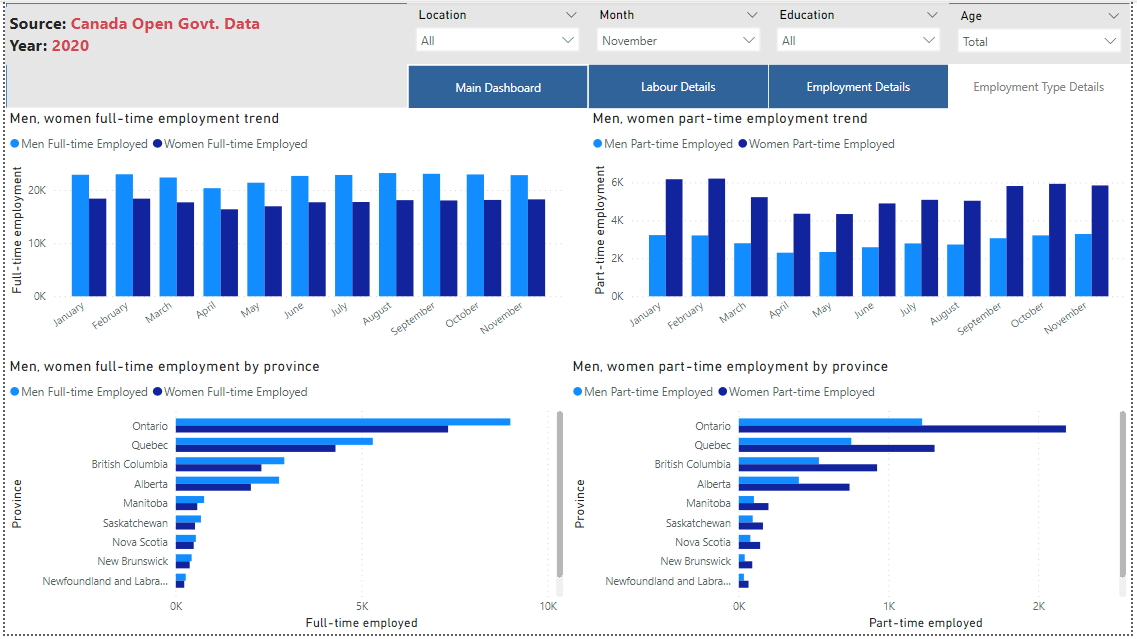

Layout of this report page (visuals, bound fields, positions):
{"tool":"powerbi","page":{"name":"Employment Type Details","canvas":[1280,720],"ordinal":3},"visuals":[{"type":"shape","box":[0,1.3,1280,120.8],"z":0},{"type":"lineClusteredColumnComboChart","title":"Men, women full-time employment trend","fields":{"Category":["data-2020.Date.Variation.Date Hierarchy.Month"],"Y":["LabourForceByEducation.Men Full-time Employed","LabourForceByEducation.Women Full-time Employed"]},"box":[0,123.4,640,281.4],"z":1000},{"type":"clusteredBarChart","title":"Men, women full-time employment by province","fields":{"Category":["data-2020.Location"],"Y":["LabourForceByEducation.Men Full-time Employed","LabourForceByEducation.Women Full-time Employed"]},"box":[0,404.8,640,314.9],"z":2000},{"type":"clusteredBarChart","title":"Men, women part-time employment by province","fields":{"Category":["data-2020.Location"],"Y":["LabourForceByEducation.Men Part-time Employed","LabourForceByEducation.Women Part-time Employed"]},"box":[640,404.8,640,314.9],"z":3000},{"type":"lineClusteredColumnComboChart","title":"Men, women part-time employment trend","fields":{"Category":["data-2020.Date.Variation.Date Hierarchy.Month"],"Y":["LabourForceByEducation.Men Part-time Employed","LabourForceByEducation.Women Part-time Employed"]},"box":[663.1,123.4,616.9,281.4],"z":4000},{"type":"slicer","fields":{"Values":["data-2020.Location"]},"box":[457.8,2.6,205.6,68.1],"z":5000},{"type":"slicer","fields":{"Values":["data-2020.Date.Variation.Date Hierarchy.Month"]},"box":[663.4,2.6,205.6,68.1],"z":6000},{"type":"slicer","fields":{"Values":["data-2020.Education"]},"box":[867.8,2.6,205.6,68.1],"z":7000},{"type":"slicer","fields":{"Values":["data-2020.Age"]},"box":[1073.4,3,206,68],"z":8000},{"type":"actionButton","box":[457.5,72,205.6,51.4],"z":9000},{"type":"actionButton","box":[663.1,72,205.6,51.4],"z":10000},{"type":"actionButton","box":[867.5,72,205.6,51.4],"z":11000},{"type":"actionButton","box":[1073.1,72,206.9,51.4],"z":12000},{"type":"textbox","box":[0,6.4,317.4,65.5],"z":13000}]}

Visuals, with their boxes in screenshot pixels (x1, y1, x2, y2), scaled from the page's 1280x720 canvas onto the 1137x639 screenshot:
shape: rect(0, 1, 1136, 108)
"Men, women full-time employment trend" lineClusteredColumnComboChart: rect(0, 110, 568, 359)
"Men, women full-time employment by province" clusteredBarChart: rect(0, 359, 568, 638)
"Men, women part-time employment by province" clusteredBarChart: rect(568, 359, 1136, 638)
"Men, women part-time employment trend" lineClusteredColumnComboChart: rect(589, 110, 1136, 359)
slicer - data-2020.Location: rect(407, 2, 589, 63)
slicer - data-2020.Date.Variation.Date Hierarchy.Month: rect(589, 2, 772, 63)
slicer - data-2020.Education: rect(771, 2, 953, 63)
slicer - data-2020.Age: rect(953, 3, 1136, 63)
actionButton: rect(406, 64, 589, 110)
actionButton: rect(589, 64, 772, 110)
actionButton: rect(771, 64, 953, 110)
actionButton: rect(953, 64, 1136, 110)
textbox: rect(0, 6, 282, 64)
